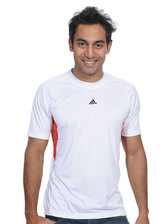clothoes: (25, 67, 145, 218)
